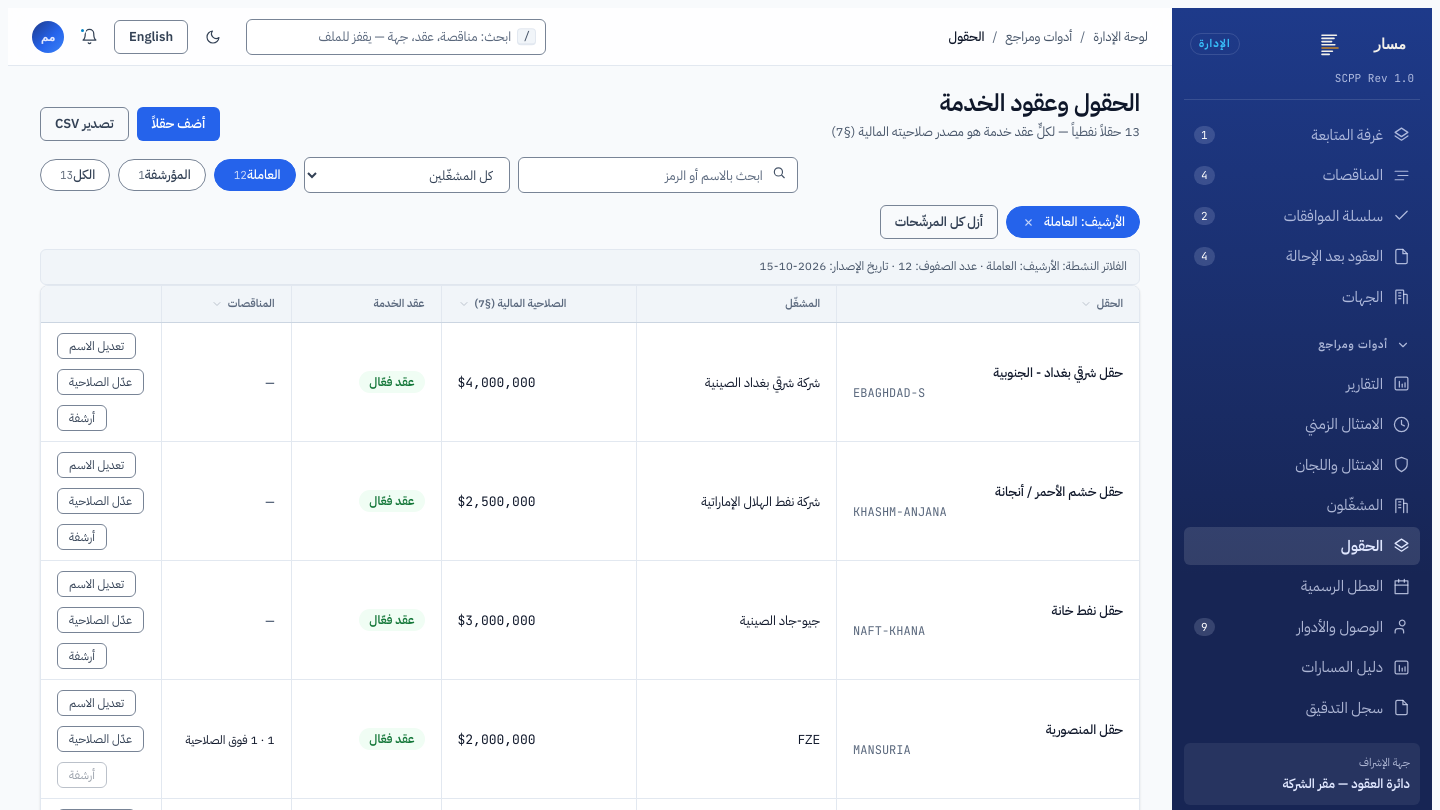
Test: #/admin/fields — the archive gate names its reason instead of greying out › shows the archived field under its own chip, muted, with a restore action
Expected: the text "QARNAYN" is not shown
Step 1. Click the button "المؤرشفة 1" → (162, 175), box [118,159,206,191]
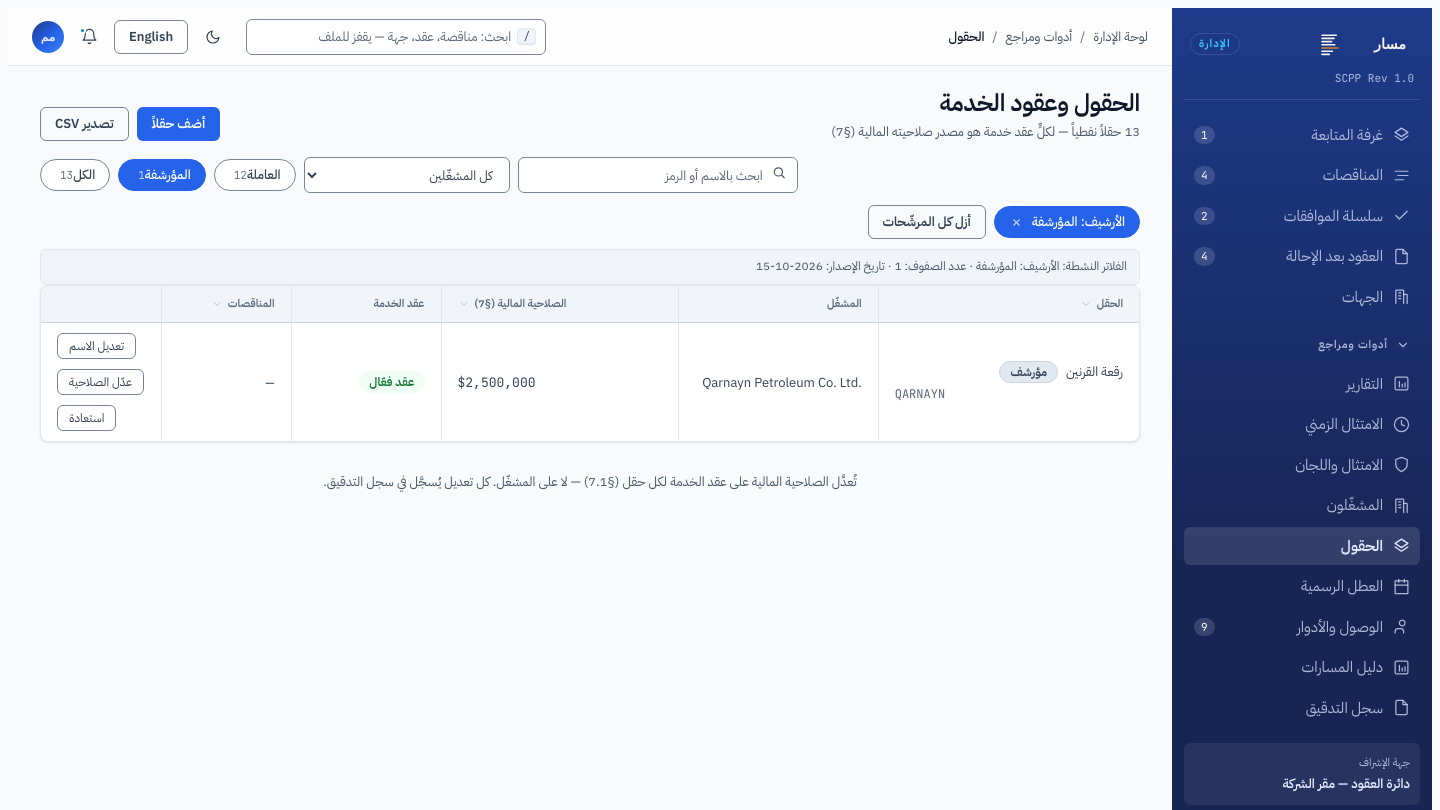
Now the text "مؤرشف" is shown, box [999,361,1058,383]
Now the button "استعادة" is shown, box [57,405,116,431]
Now the button "أرشفة" is gone
